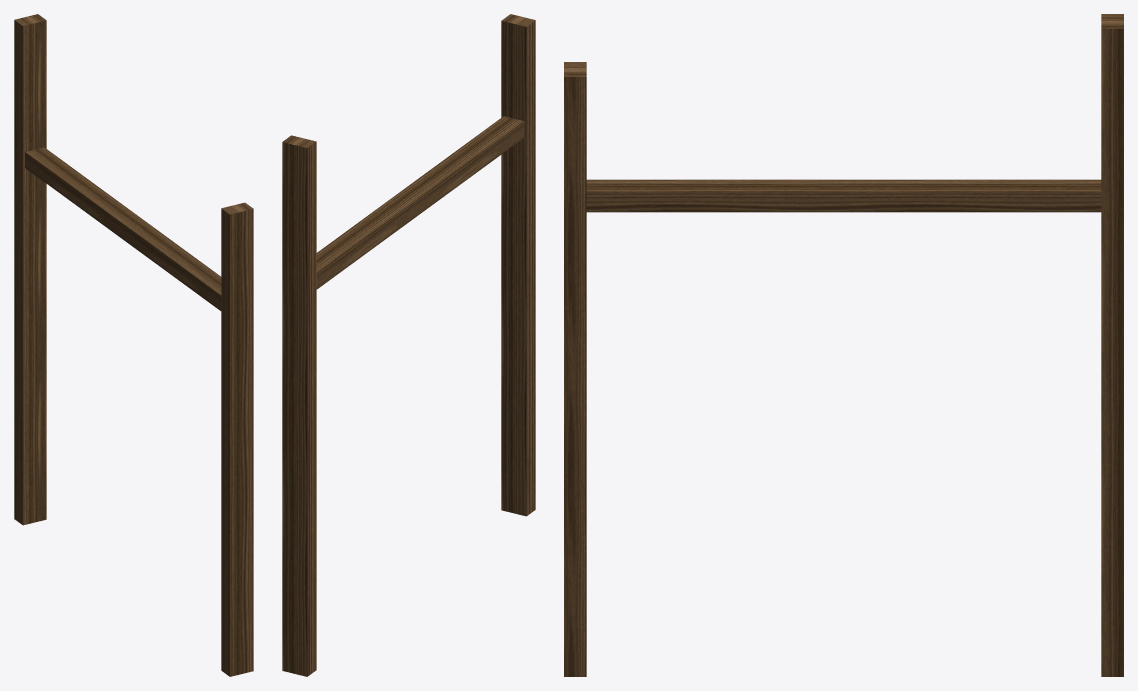
The model's file is Wooden 29.glb.
The picture shows the model from 3 angles, left to right: view 1: azimuth 30°, elevation 25°; view 2: azimuth 150°, elevation 25°; view 3: azimuth 270°, elevation 25°; orthographic projection. The views are drawn at different scales.
Visible parts, largest first — view 1: Wooden_29; view 2: Wooden_29; view 3: Wooden_29.
Part boxes in pixels (<box>): Wooden_29: <box>14,14,253,676</box>; Wooden_29: <box>282,14,535,676</box>; Wooden_29: <box>564,14,1123,676</box>.
Bounding box in the file's own units: 0.0795 × 1.6 × 1.25.
Materials: 1 (1 with a texture image).
